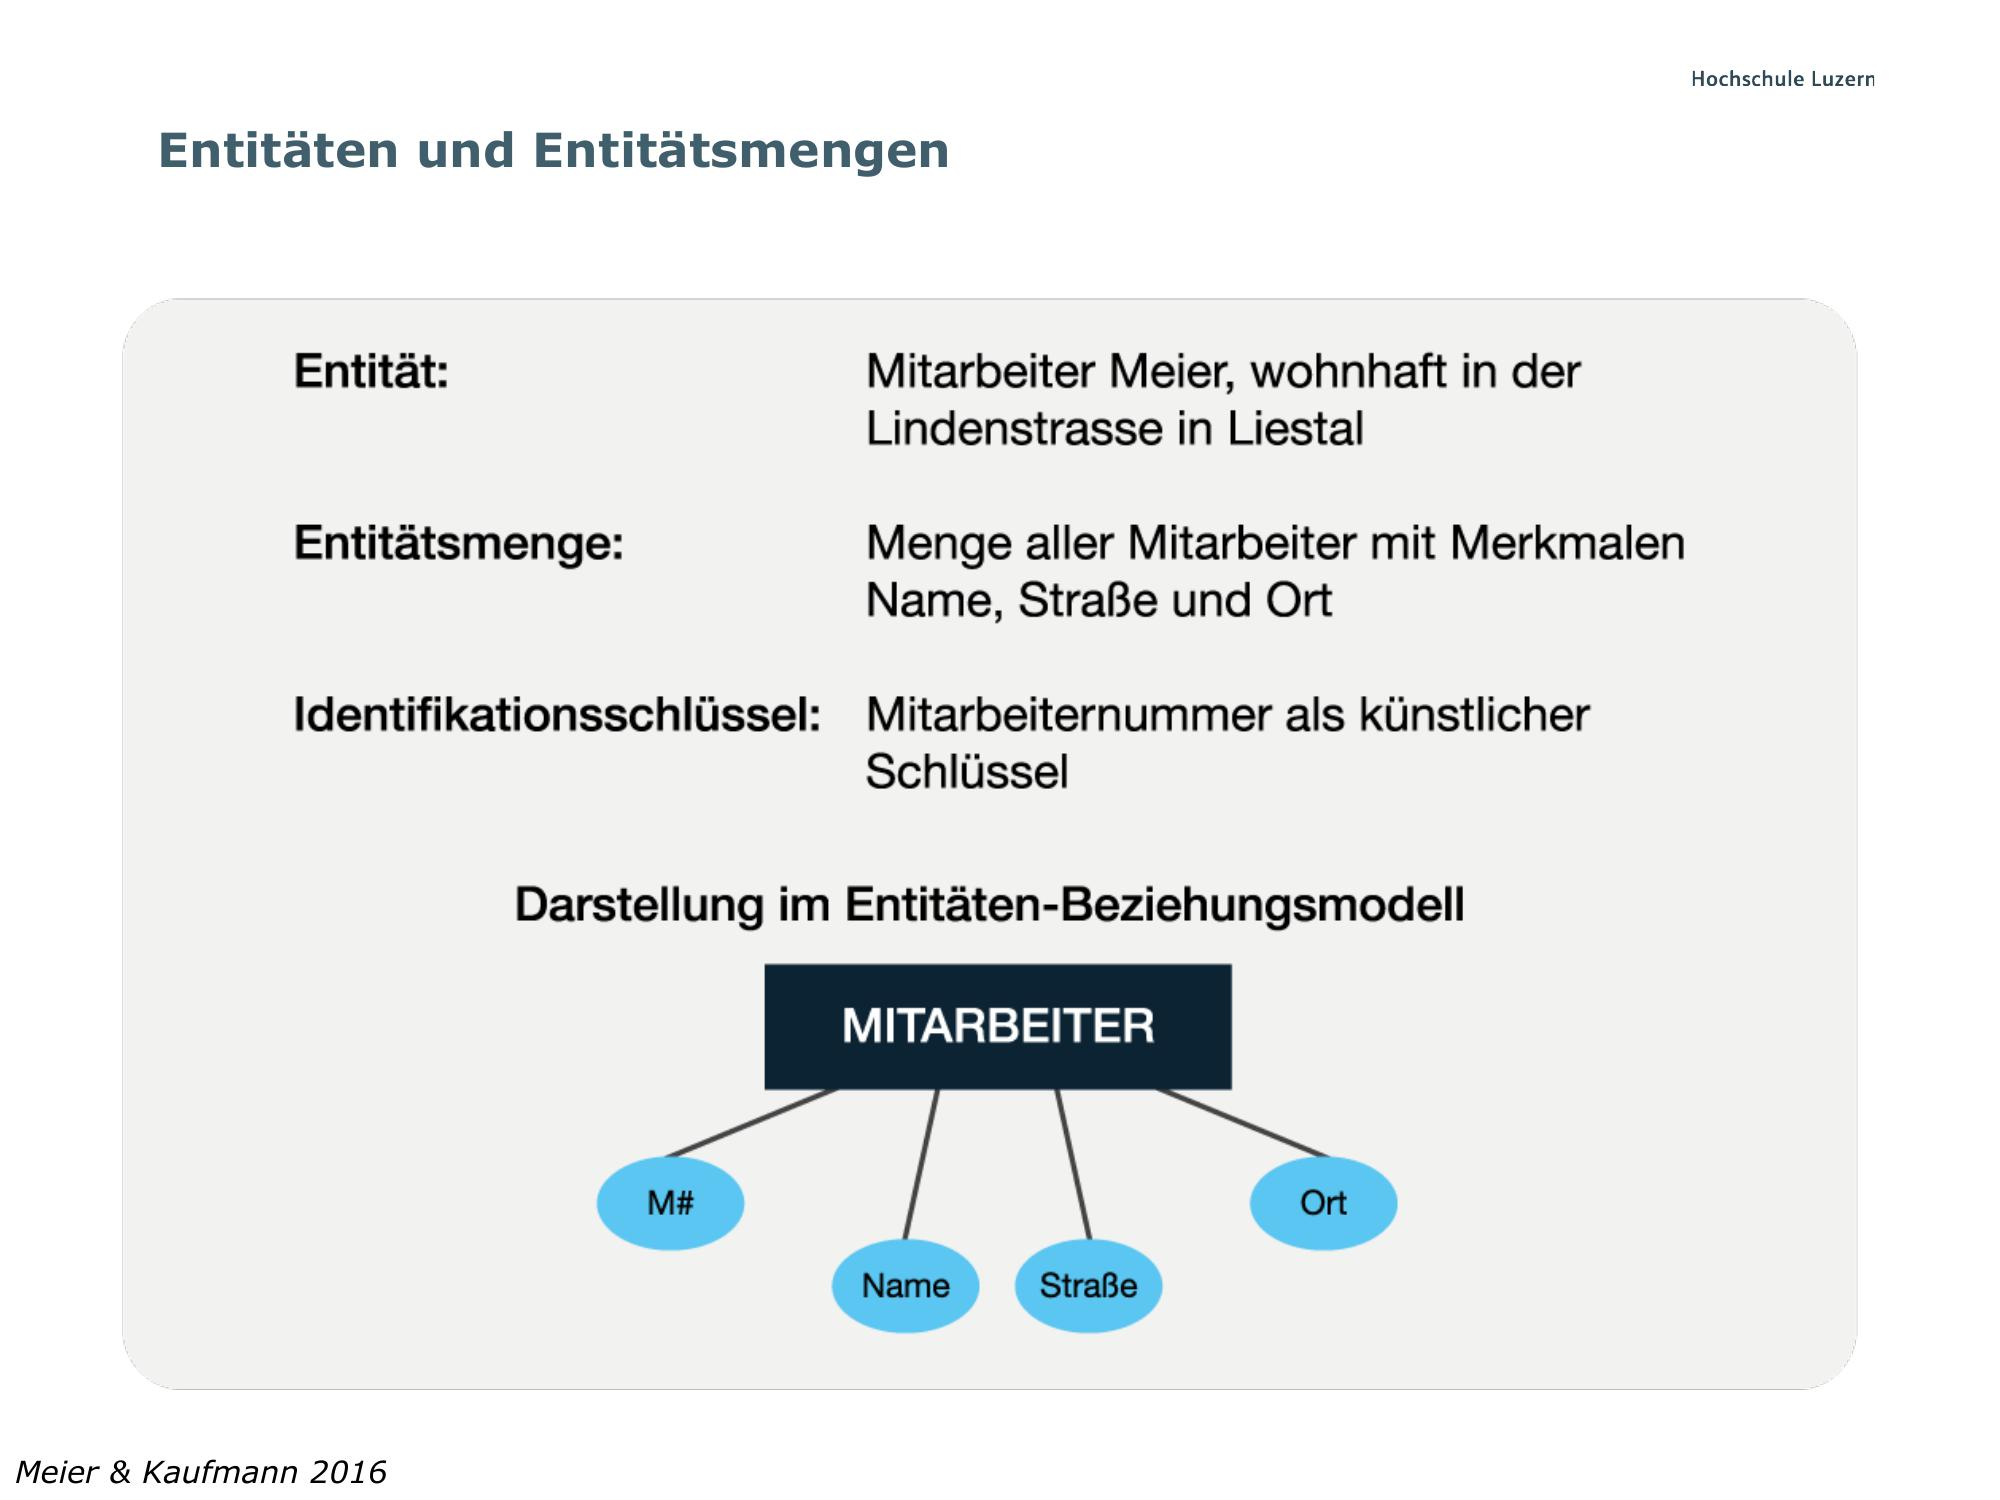Title: (139, 121, 957, 192)
